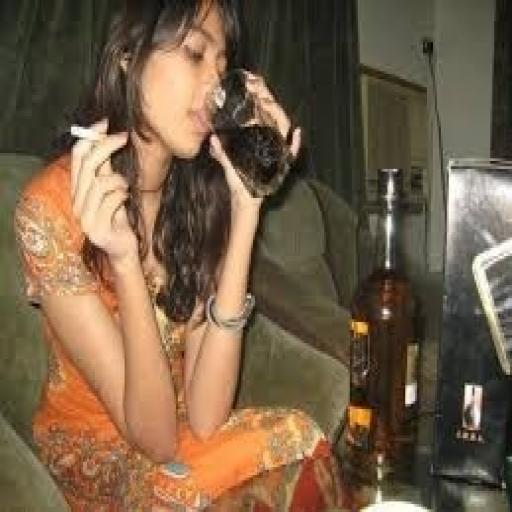drinking: (51, 0, 293, 198)
